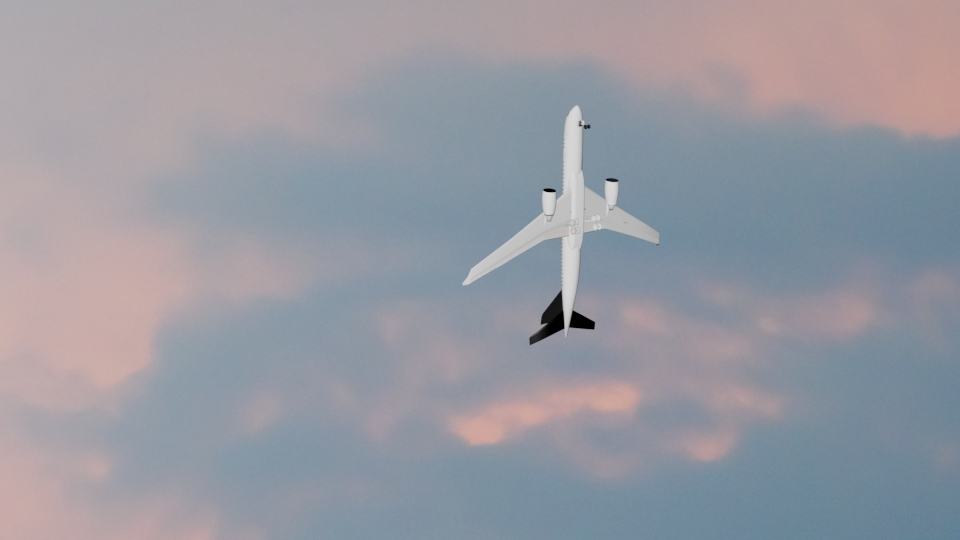plane: (459, 107, 662, 345)
